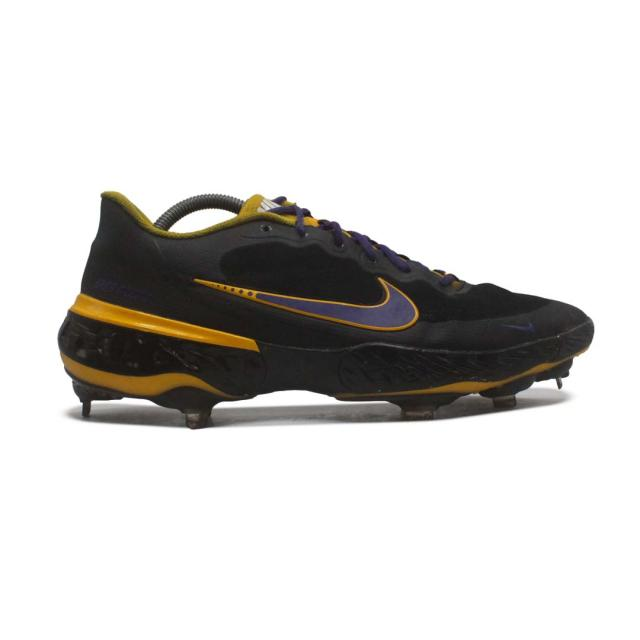heel: (83, 187, 157, 304)
midsole: (56, 293, 595, 414)
uppersole: (135, 194, 595, 356)
